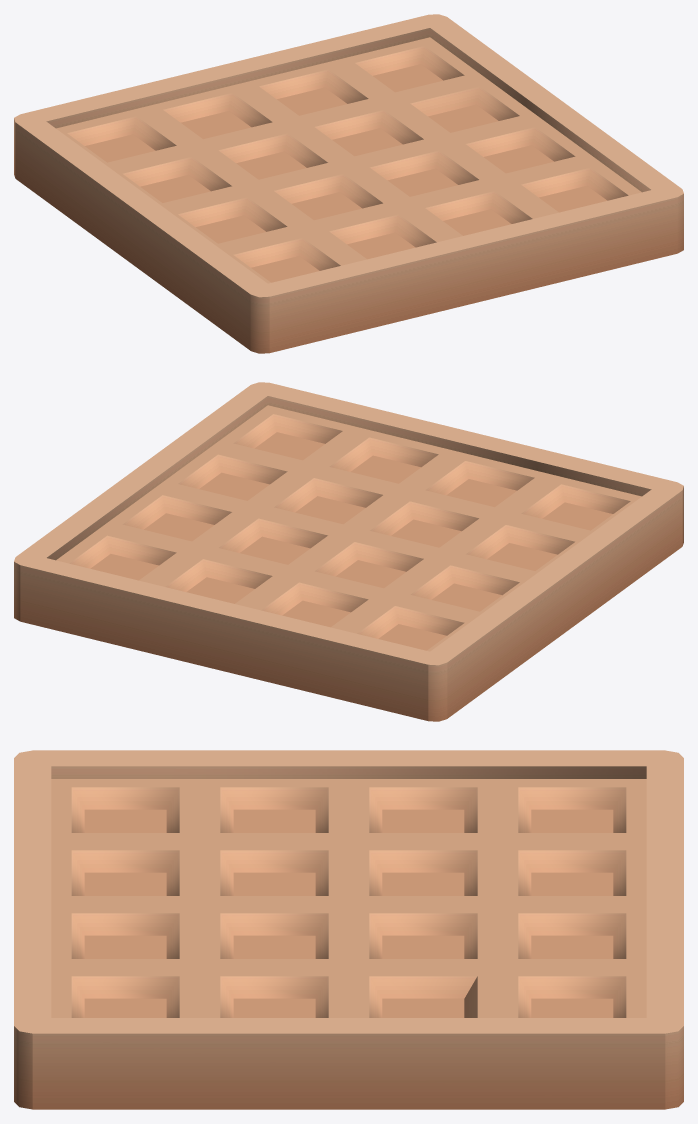
Rendered from waffle.glb.
The picture shows the model from 3 angles, top to bottom: view 1: azimuth 30°, elevation 25°; view 2: azimuth 150°, elevation 25°; view 3: azimuth 270°, elevation 25°; orthographic projection. The views are drawn at different scales.
Parts seen in each view (by area): view 1: waffle; view 2: waffle; view 3: waffle.
Part boxes in pixels (bbox=[...]): waffle: bbox=[14, 14, 683, 353]; waffle: bbox=[14, 382, 683, 721]; waffle: bbox=[14, 750, 683, 1109].
Bounding box in the file's own units: 0.3204 × 0.0401 × 0.3204.
1 material, 1 textured.
